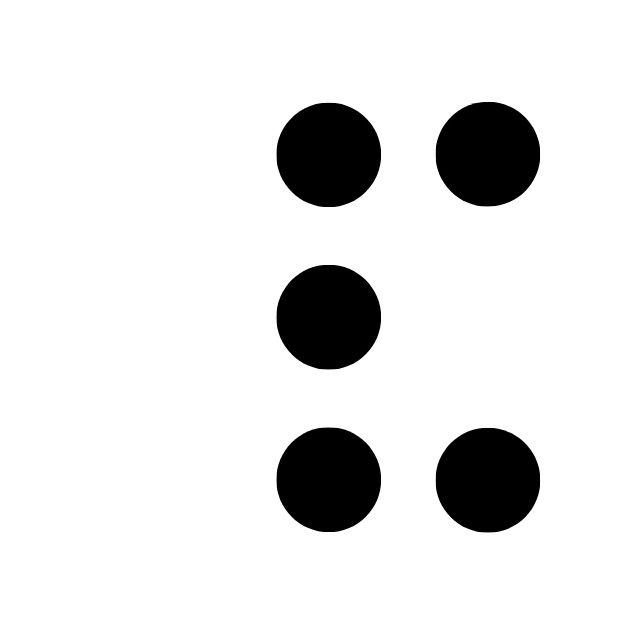ay: (276, 102, 542, 531)
